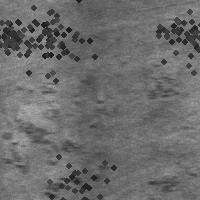rolled-in_scale: (2, 76, 103, 200), (0, 0, 101, 92), (24, 131, 138, 200), (142, 0, 200, 79), (145, 58, 182, 110), (141, 169, 197, 195), (0, 10, 28, 60)
